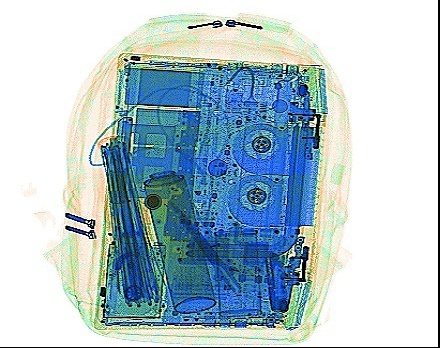pressure: (141, 168, 215, 313)
scissors: (166, 199, 260, 306)
